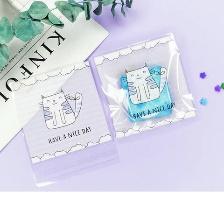snack: (3, 55, 123, 189), (88, 27, 203, 145)
